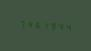four: (25, 18, 32, 30), (57, 20, 64, 32), (65, 21, 72, 32)
nine: (49, 20, 56, 31)
one: (41, 19, 48, 31)
seven: (17, 18, 24, 29)
six: (33, 19, 40, 30)
